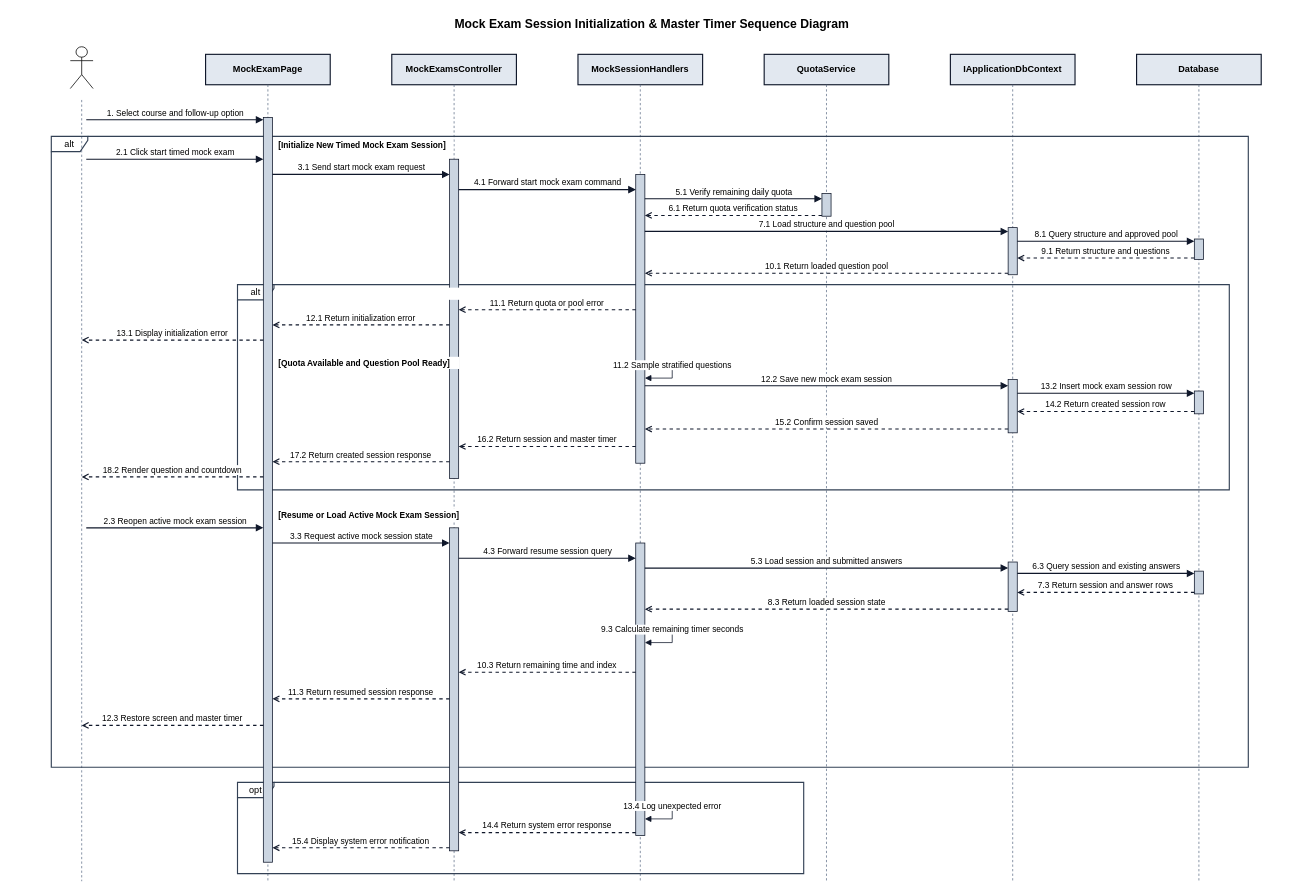
Image size: 1303x895. Some labels were removed from this diagram. Each missing label, with the centre of its shape:
[Daily Quota Exhausted or Insufficient Approved Questions]: the point at 402,293
[Exception occurs]: the point at 318,791
Student: the point at 81,67
